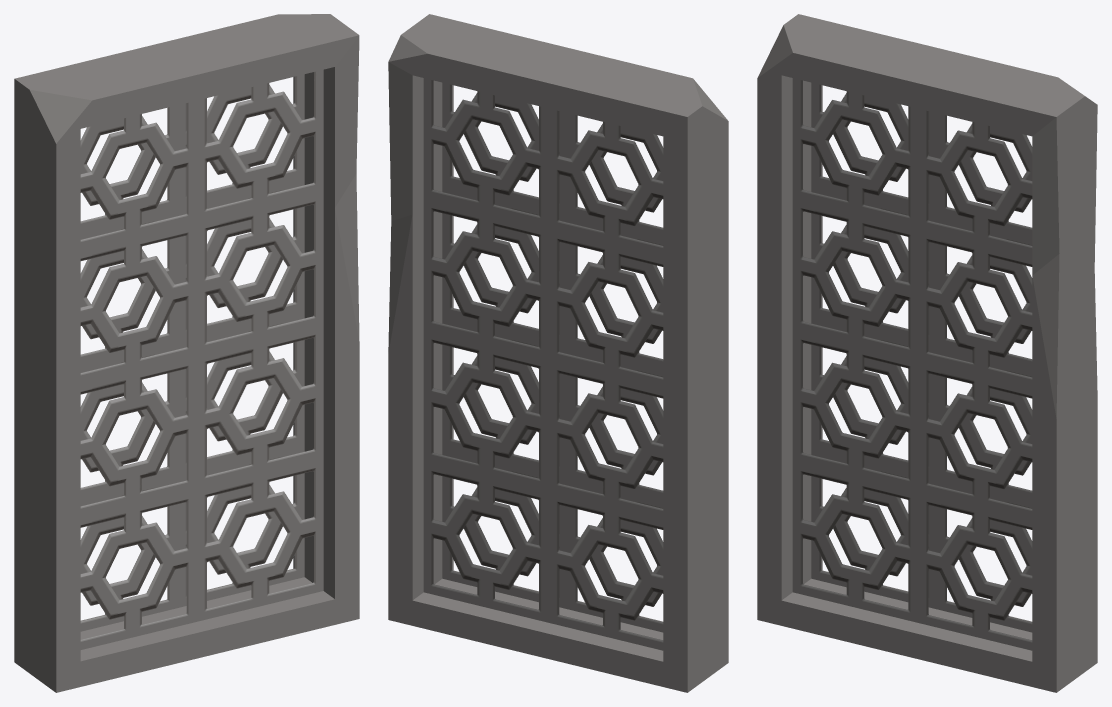
Rendered from SM_Bld_Decorative_Block_06.fbx.
3 views of the same model, side by side, from view 1: azimuth 30°, elevation 25°; view 2: azimuth 150°, elevation 25°; view 3: azimuth 330°, elevation 25° (orthographic).
Visible parts, largest first — view 1: SM_Bld_Decorative_Block_06; view 2: SM_Bld_Decorative_Block_06; view 3: SM_Bld_Decorative_Block_06.
Boxes of the visible parts, <box> form: SM_Bld_Decorative_Block_06: <box>14,14,359,692</box>; SM_Bld_Decorative_Block_06: <box>388,14,728,692</box>; SM_Bld_Decorative_Block_06: <box>757,14,1097,692</box>.
Bounding box in the file's own units: 98.98 × 182 × 23.56.
